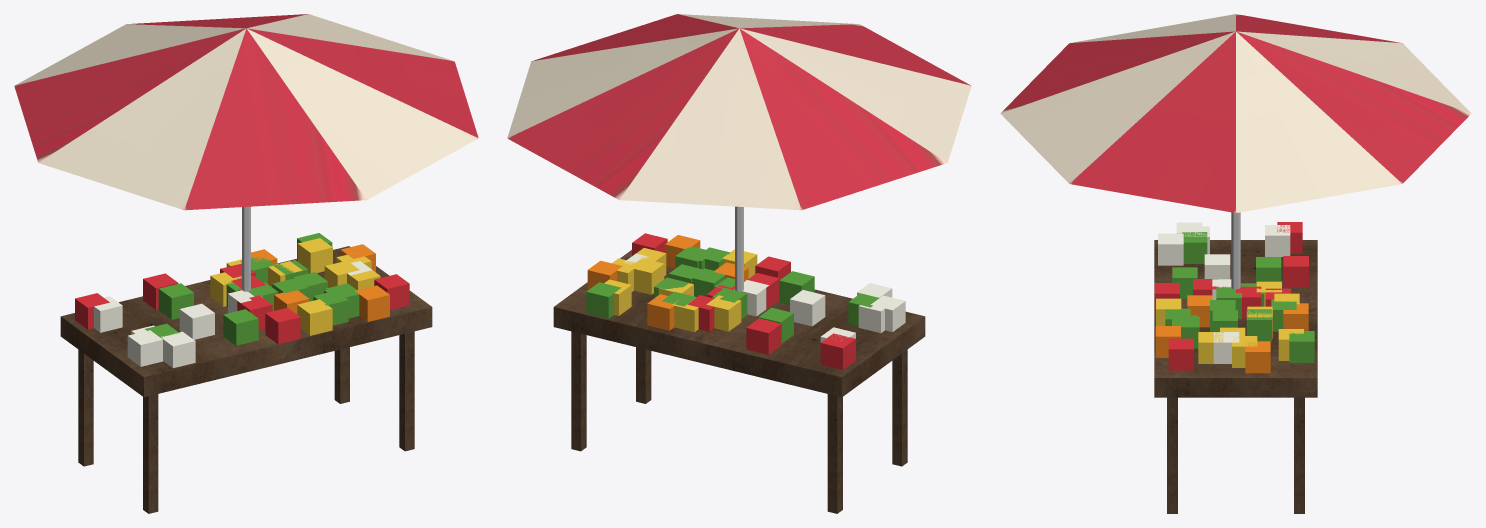
Rendered from stall.glb.
3 renders of one model, left to right at view 1: azimuth 30°, elevation 25°; view 2: azimuth 150°, elevation 25°; view 3: azimuth 270°, elevation 25°, orthographic. The views are drawn at different scales.
Visible parts, largest first — view 1: stall_7, stall_0, stall_4, stall_2, stall_1, stall_3, stall_5, stall_6; view 2: stall_7, stall_0, stall_4, stall_3, stall_1, stall_2, stall_5, stall_6; view 3: stall_7, stall_0, stall_4, stall_3, stall_2, stall_1, stall_5, stall_6.
Boxes of the visible parts, <box> form: stall_7: <box>14,14,478,210</box>; stall_0: <box>60,246,432,513</box>; stall_4: <box>145,233,359,345</box>; stall_2: <box>94,261,372,368</box>; stall_1: <box>210,238,380,335</box>; stall_3: <box>75,263,409,344</box>; stall_5: <box>251,244,389,321</box>; stall_6: <box>242,206,250,291</box>; stall_7: <box>507,14,971,210</box>; stall_0: <box>553,250,925,513</box>; stall_4: <box>586,246,879,343</box>; stall_3: <box>632,233,855,369</box>; stall_1: <box>604,248,757,332</box>; stall_2: <box>624,253,905,342</box>; stall_5: <box>587,235,748,330</box>; stall_6: <box>735,206,743,291</box>; stall_7: <box>1000,14,1471,212</box>; stall_0: <box>1154,240,1317,513</box>; stall_4: <box>1165,232,1314,362</box>; stall_3: <box>1154,222,1308,370</box>; stall_2: <box>1158,222,1290,363</box>; stall_1: <box>1156,281,1303,367</box>; stall_5: <box>1155,295,1308,373</box>; stall_6: <box>1231,212,1240,289</box>.
Size of the model in its own units: 2.6 by 2.55 by 2.6.
Materials: 8 (8 with a texture image).
